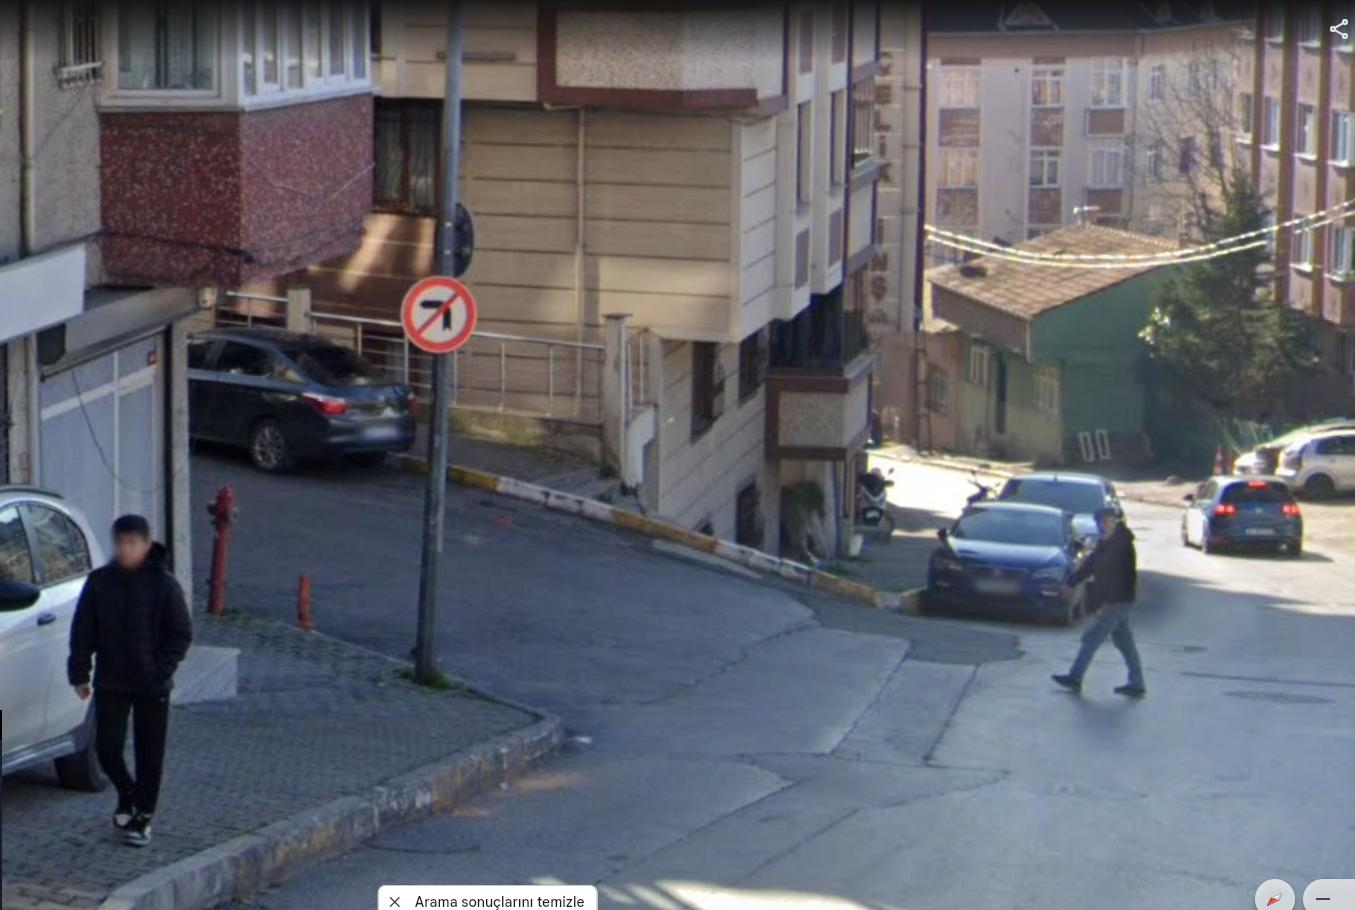leftturnsareforbidden: (397, 272, 480, 366)
